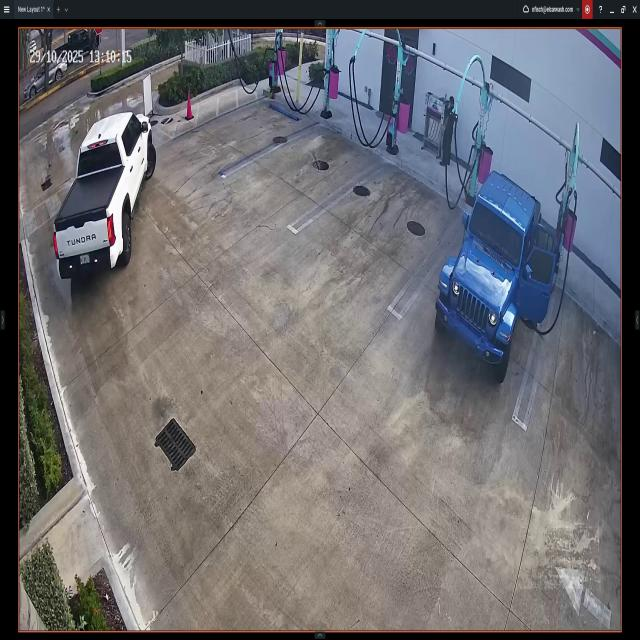Car: (438, 171, 551, 371), (54, 111, 155, 273)
